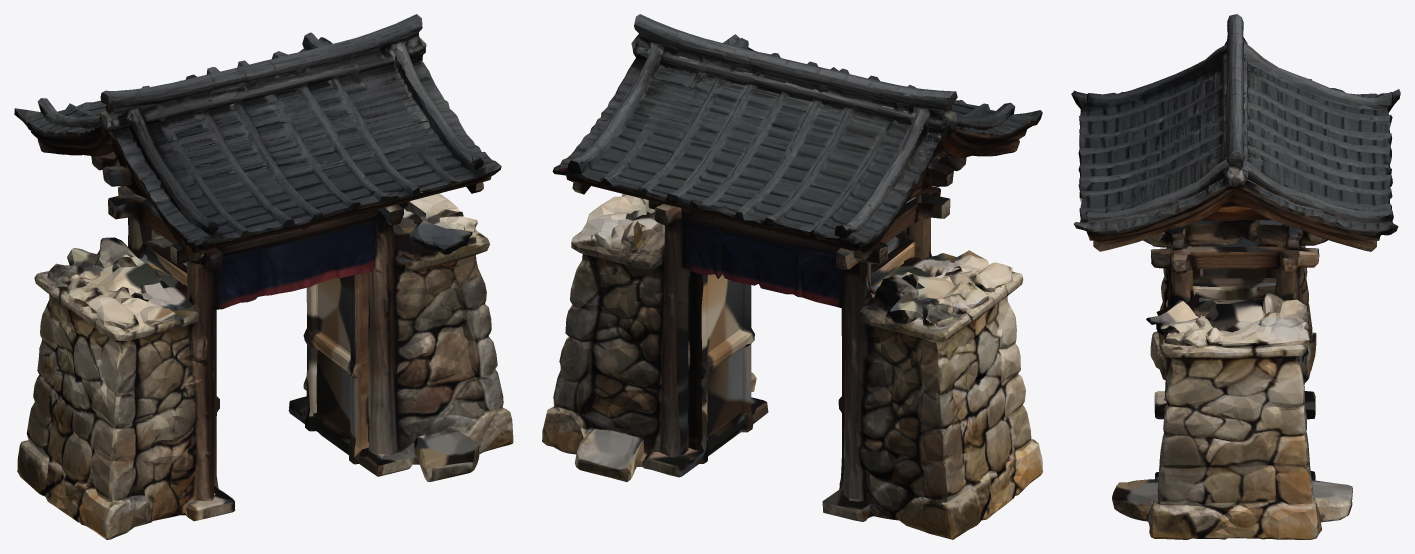
The model's file is traveler_env_coast_hiruma_gate_ruin_00001_.glb.
3 views of the same model, side by side, from view 1: azimuth 30°, elevation 25°; view 2: azimuth 150°, elevation 25°; view 3: azimuth 270°, elevation 25° (orthographic). The views are drawn at different scales.
Visible parts, largest first — view 1: temp_mesh.ply; view 2: temp_mesh.ply; view 3: temp_mesh.ply.
Part boxes in pixels (bbox=[...]): temp_mesh.ply: bbox=[14, 14, 513, 539]; temp_mesh.ply: bbox=[542, 14, 1042, 539]; temp_mesh.ply: bbox=[1071, 14, 1400, 539].
Bounding box in the file's own units: 1.98 × 1.91 × 1.52.
Materials: 1 (1 with a texture image).
